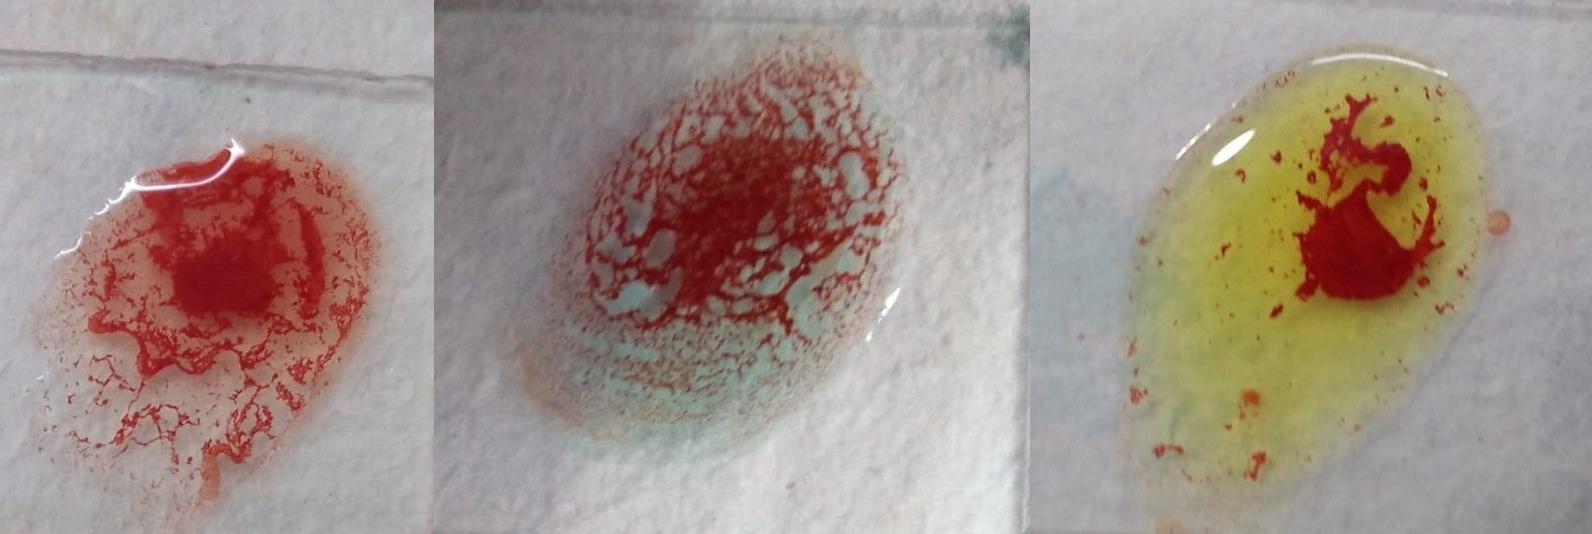A: (542, 51, 902, 466)
B: (1120, 56, 1499, 520)
D: (41, 145, 380, 498)
